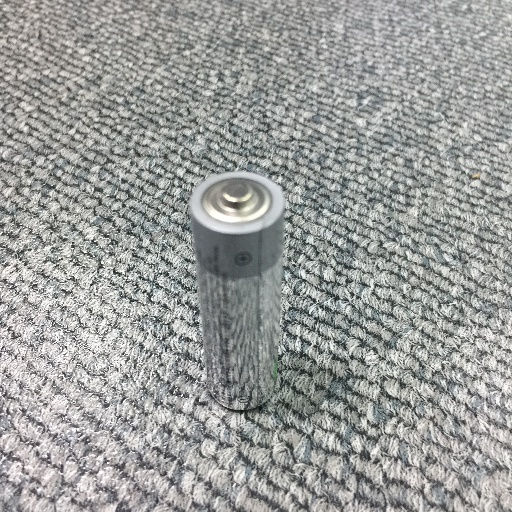Battery_0: (179, 164, 297, 420)
